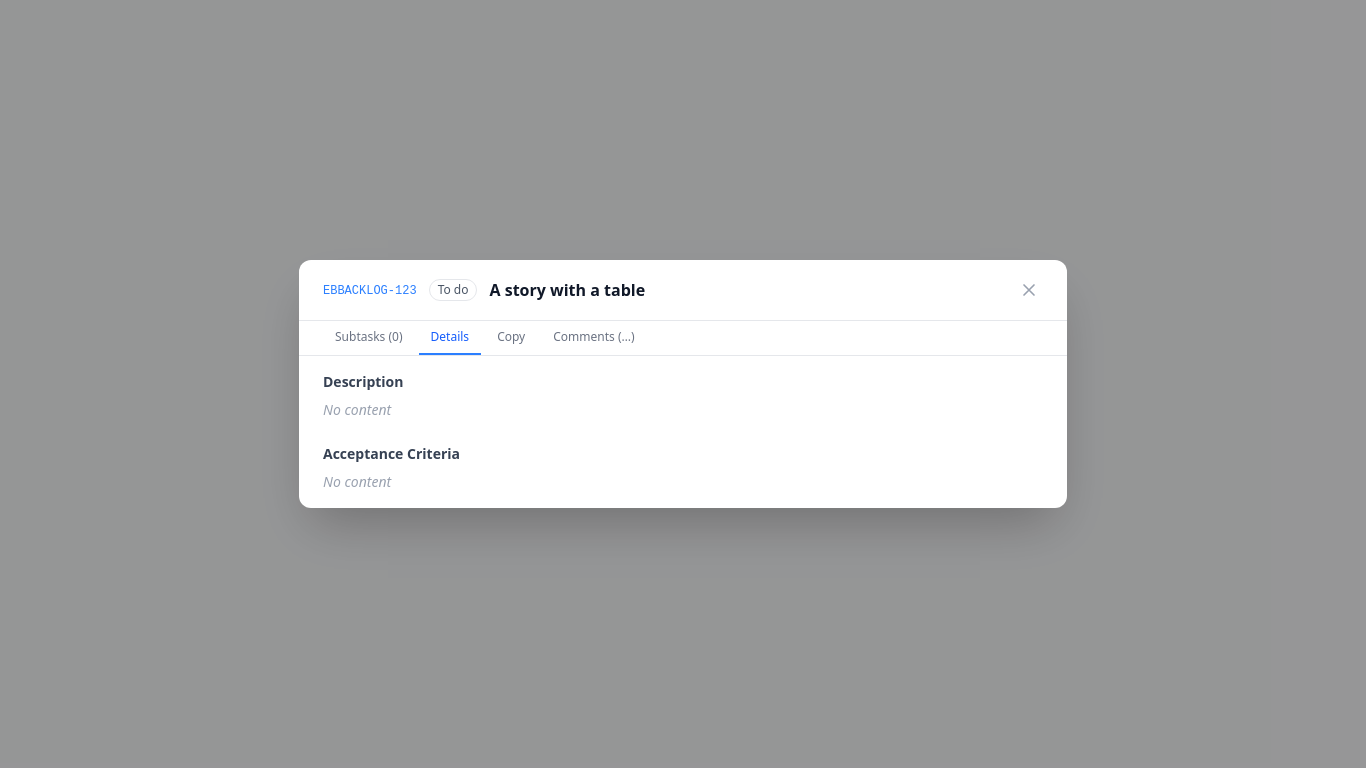
Test case: StoryDetailModal Copy tab › is present for the copy-clinical label and shows Not set when the status is null
Expected: the heading "A story with a table" is shown, [490,279,645,301]
Click the button "Copy" at (511, 338), box [485,321,537,355]
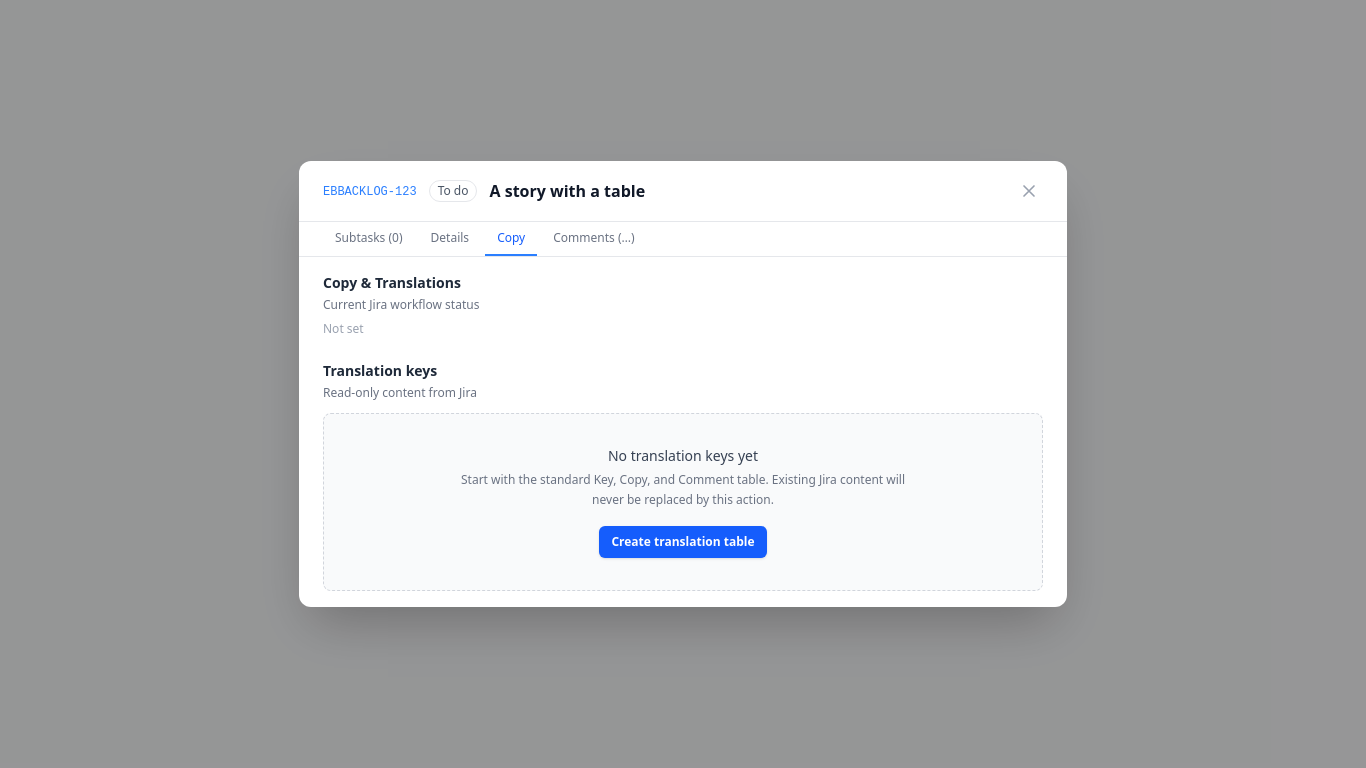
Expected: the text "Not set" is shown, [323,320,364,337]
